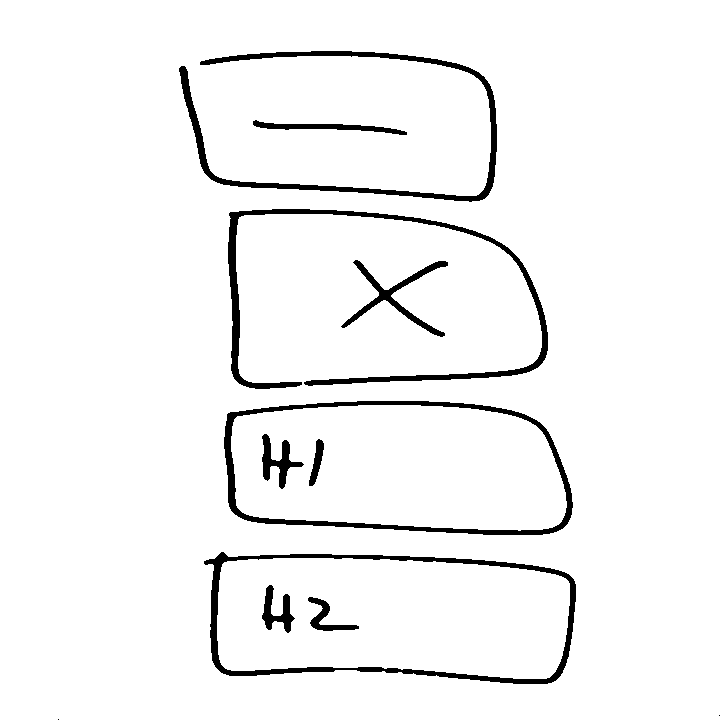button: (172, 46, 502, 208)
heading1: (219, 398, 578, 541)
heading2: (201, 550, 580, 691)
picture: (223, 205, 558, 392)
